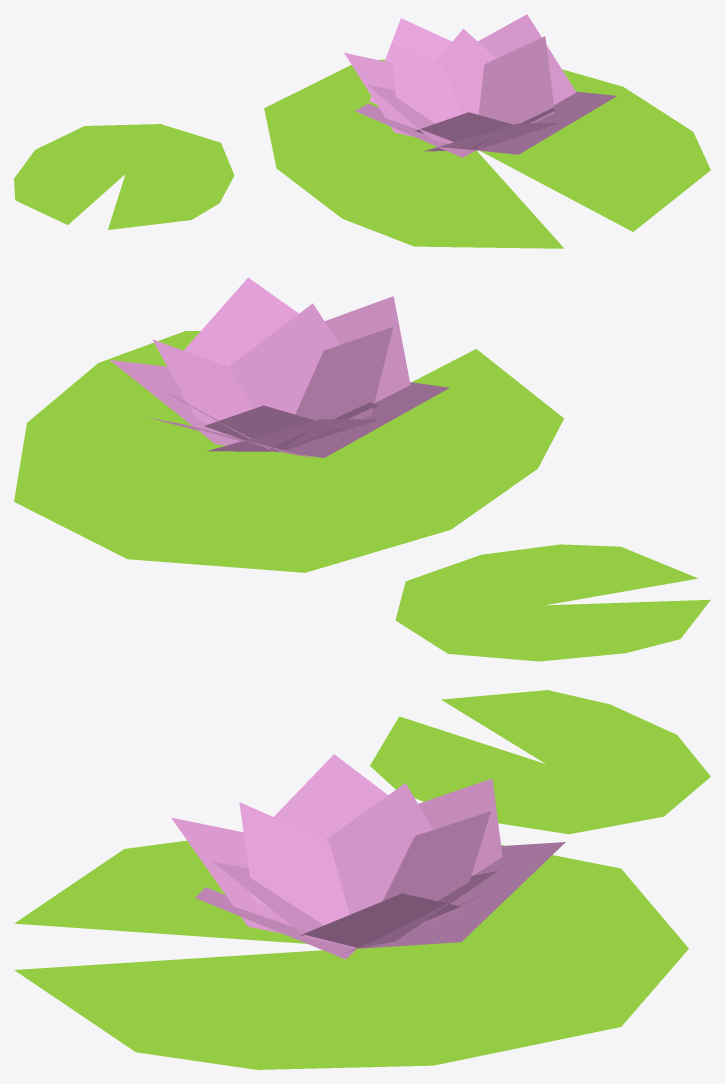
The model's file is LilyPad4_Mod.fbx.
3 views of the same model, one above another, from view 1: azimuth 30°, elevation 25°; view 2: azimuth 150°, elevation 25°; view 3: azimuth 270°, elevation 25° (orthographic). The views are drawn at different scales.
Parts seen in each view (by area): view 1: Plane.004; view 2: Plane.004; view 3: Plane.004.
Boxes of the visible parts, x1=… form: Plane.004: x1=14, y1=14, x2=710, y2=248; Plane.004: x1=14, y1=277, x2=710, y2=661; Plane.004: x1=14, y1=690, x2=710, y2=1069.
Size of the model in its own units: 299 by 43.3 by 227.
